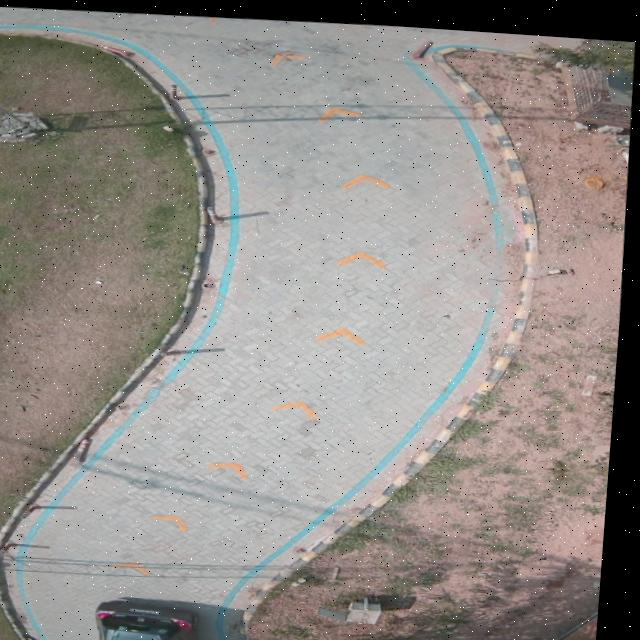car: (105, 596, 204, 640)
